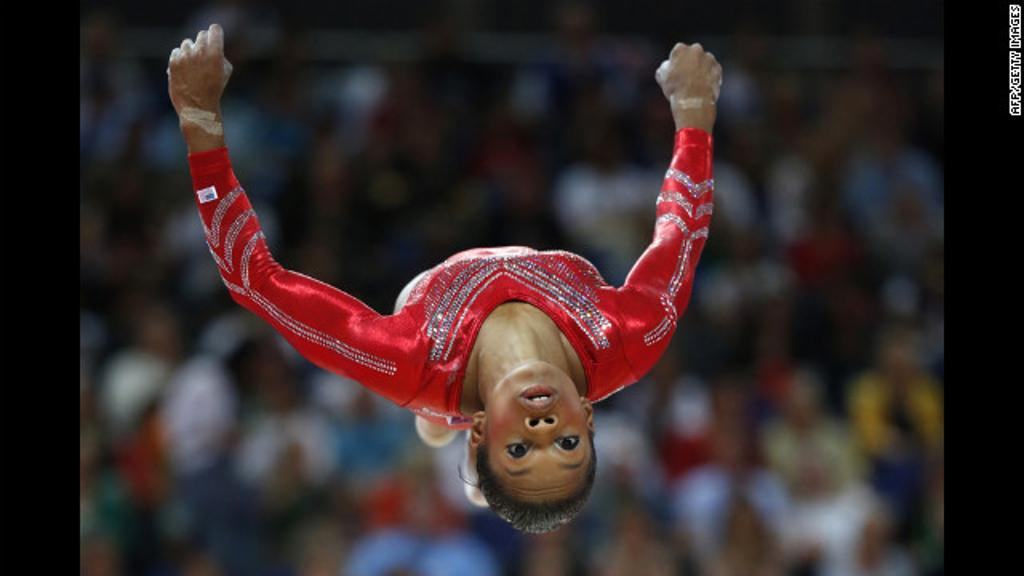face: (491, 367, 595, 521)
